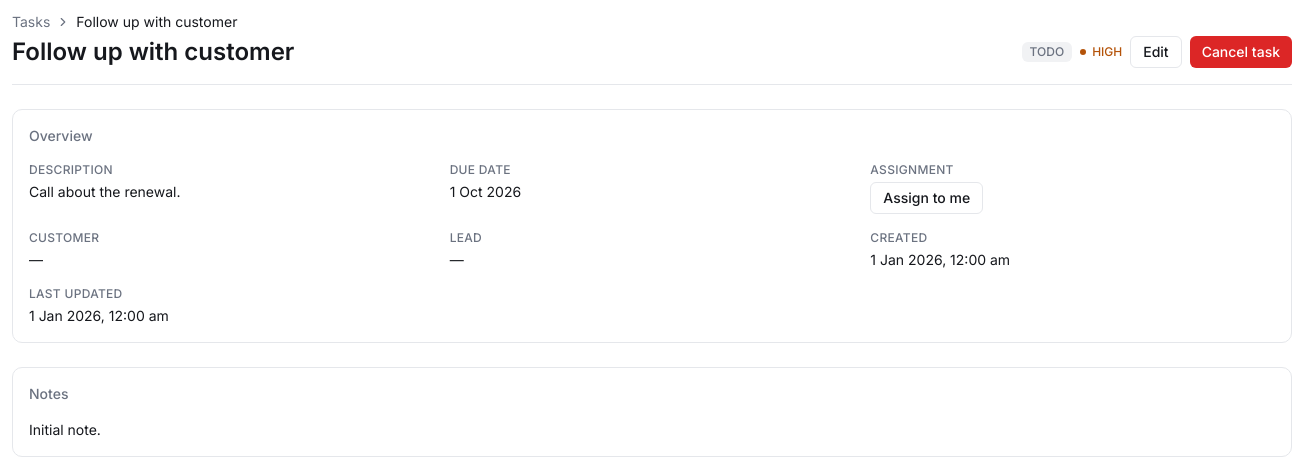
TaskDetailPage › assignment: shows Assign to me, then Assigned to you + Unassign after clicking
This screenshot has width=1304, height=474.
Expected: the heading "Follow up with customer" is shown, x1=12 y1=36 x2=294 y2=68
Click the button "Assign to me" at (927, 198), box x1=870 y1=182 x2=983 y2=214
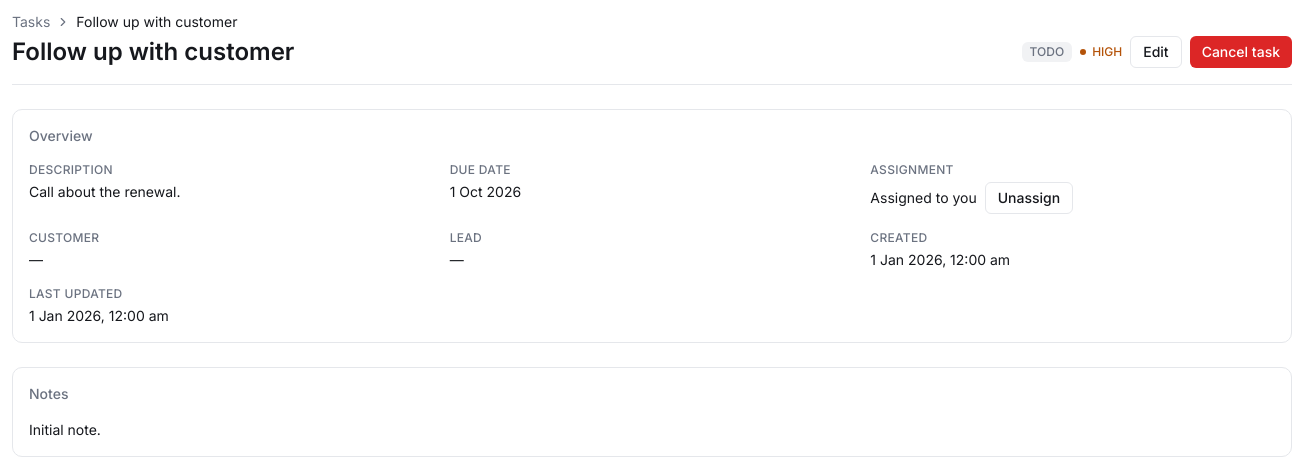
Result: the text "Assigned to you" is shown at x1=870 y1=188 x2=977 y2=208
Result: the button "Unassign" is shown at x1=985 y1=182 x2=1073 y2=214
